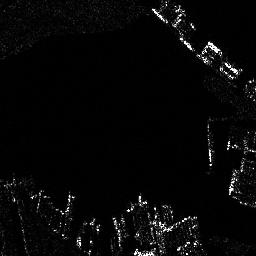ship: (205, 122, 215, 167)
